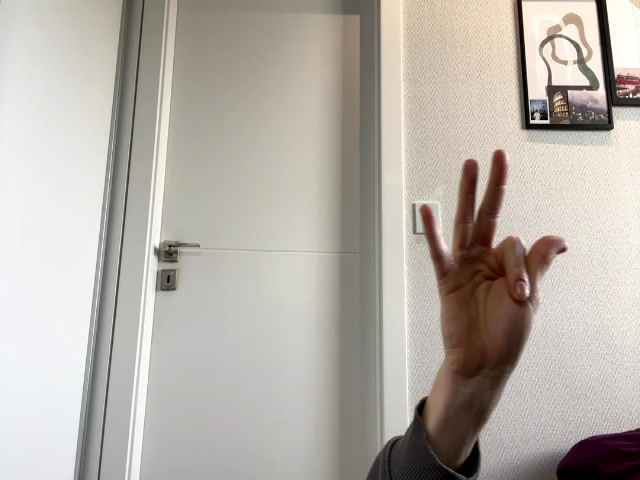F: (421, 150, 570, 374)
